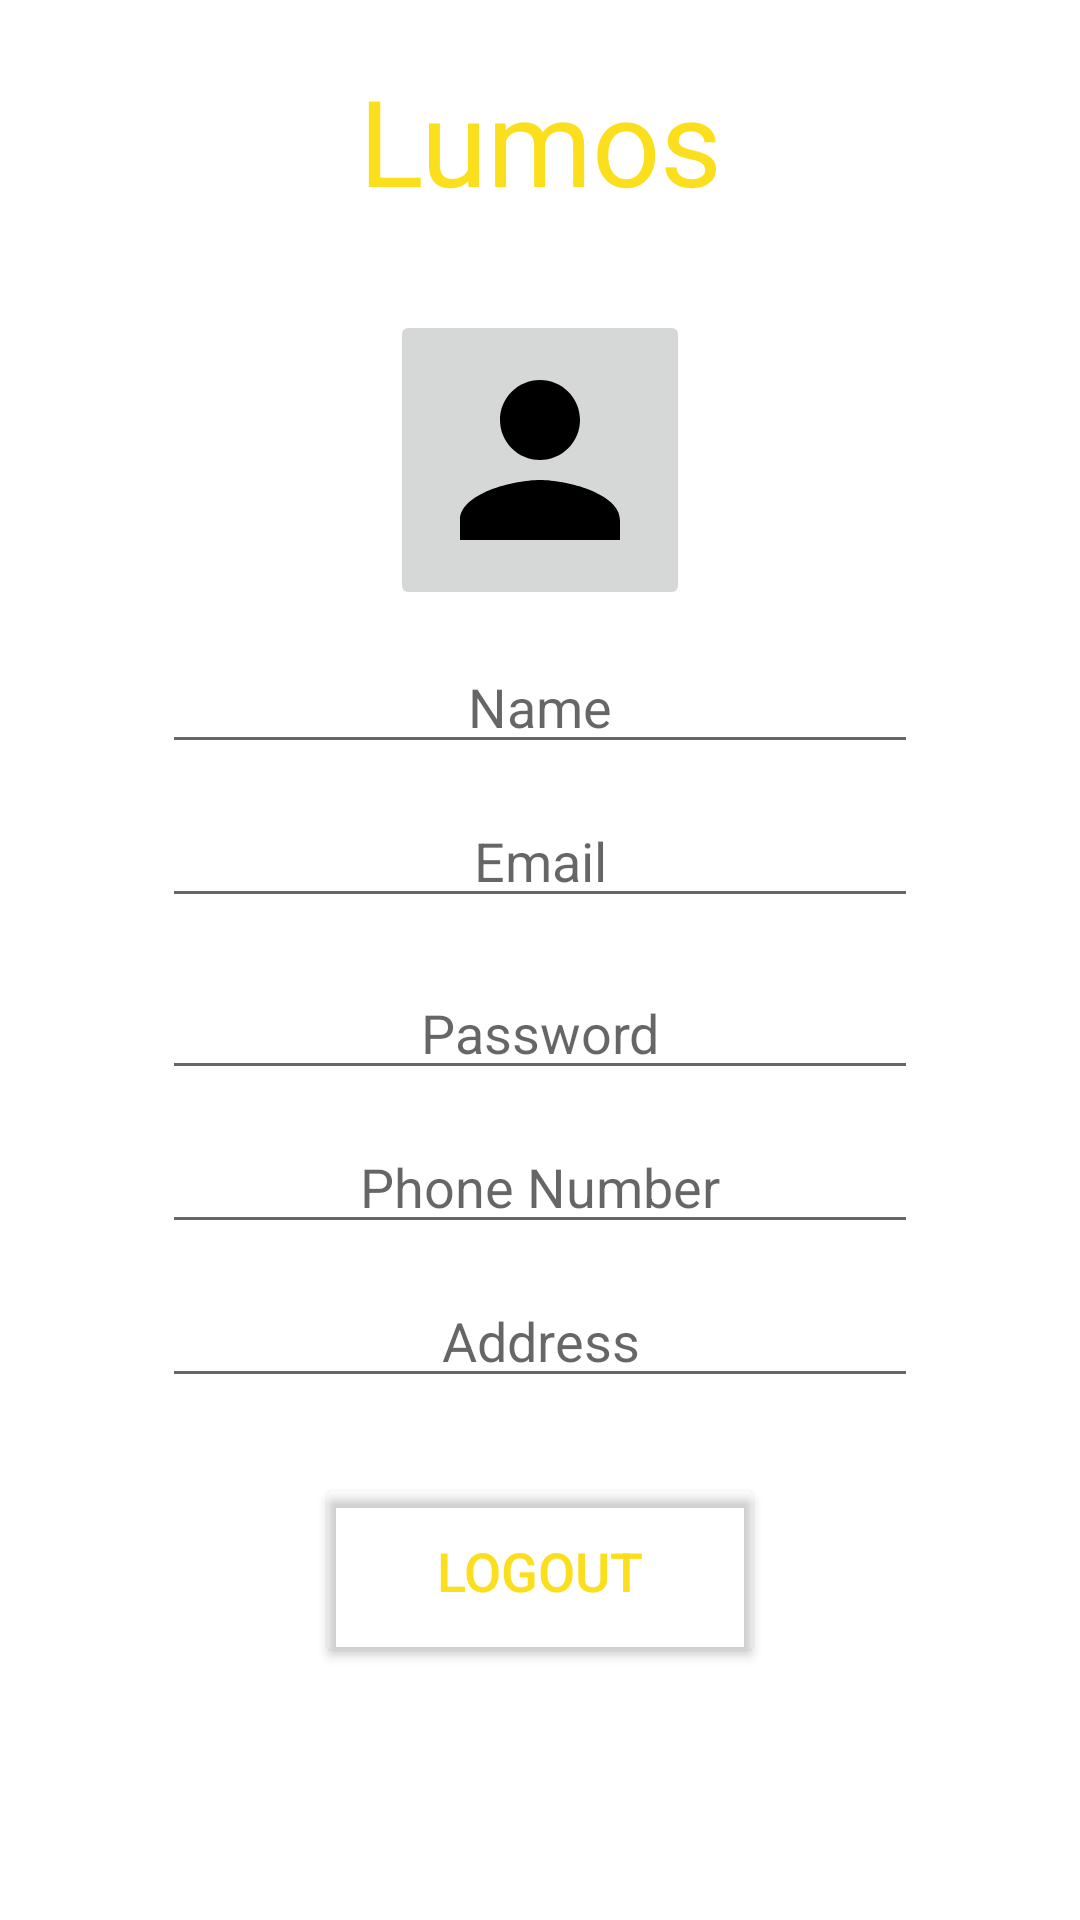

Screen size 1080 × 1920. Icon name, then its box in pixels as (x1=x1, y1=y1, x2=x2, y2=y2):
person: (x1=402, y1=328, x2=678, y2=592)
